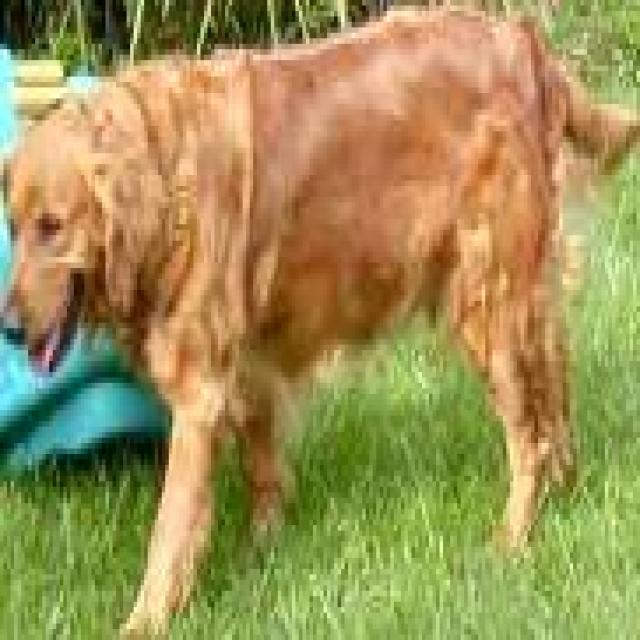dog: (0, 0, 636, 634)
